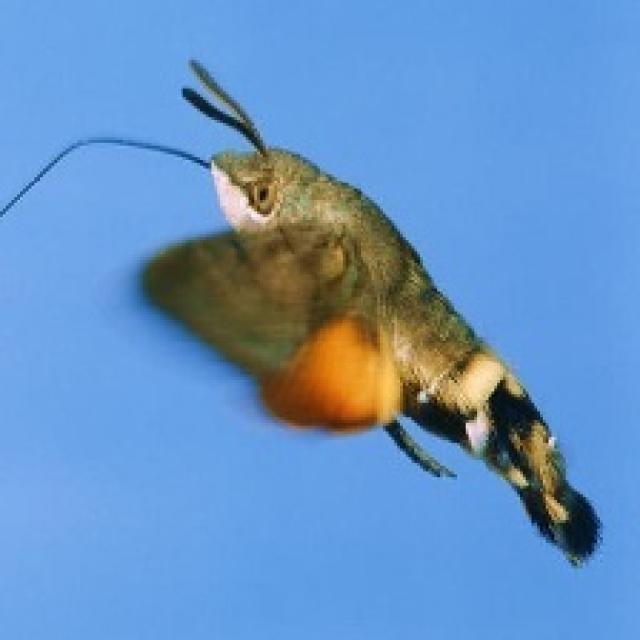butterfly: (0, 54, 603, 566)
